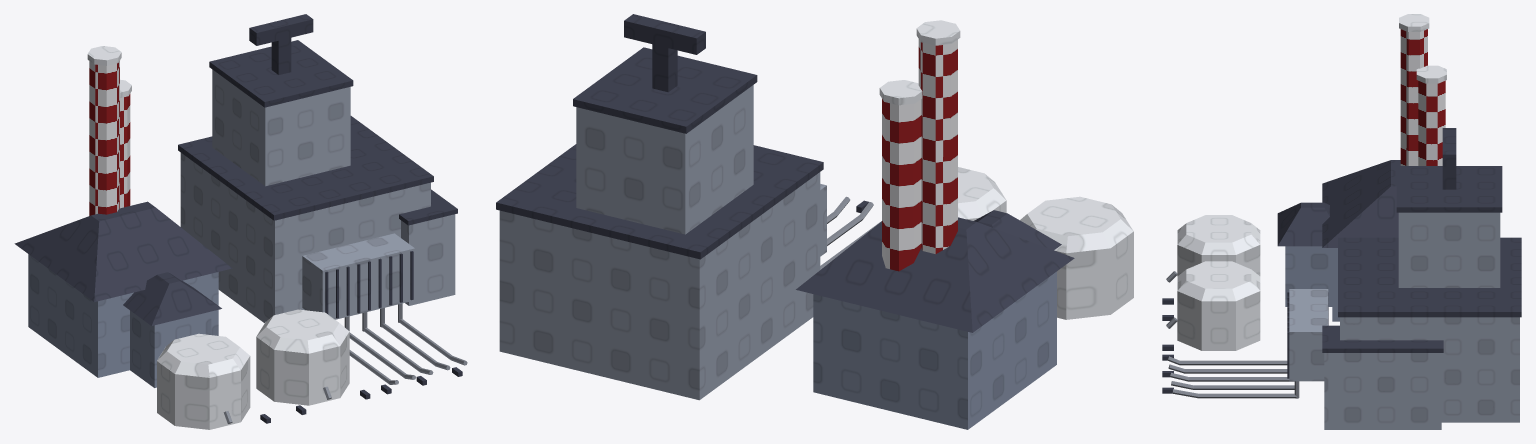
File: Centrale_Rouge_Blanc.glb
3 views of the same model, side by side, from view 1: azimuth 30°, elevation 25°; view 2: azimuth 150°, elevation 25°; view 3: azimuth 270°, elevation 25° (orthographic). The views are drawn at different scales.
Visible parts, largest first — view 1: Centrale_Rouge_Blanc; view 2: Centrale_Rouge_Blanc; view 3: Centrale_Rouge_Blanc.
Part boxes in pixels (x1,y1,x2,y2): Centrale_Rouge_Blanc: (14,14,467,429); Centrale_Rouge_Blanc: (496,14,1133,429); Centrale_Rouge_Blanc: (1162,14,1521,429).
Size of the model in its own units: 10.25 by 7.58 by 9.2.
6 materials, 5 textured.
